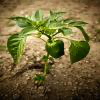Bell_pepper leaf: (6, 33, 27, 64), (68, 37, 90, 65), (5, 16, 32, 27), (47, 9, 72, 20), (47, 21, 68, 28), (68, 21, 90, 27), (33, 9, 43, 21)
